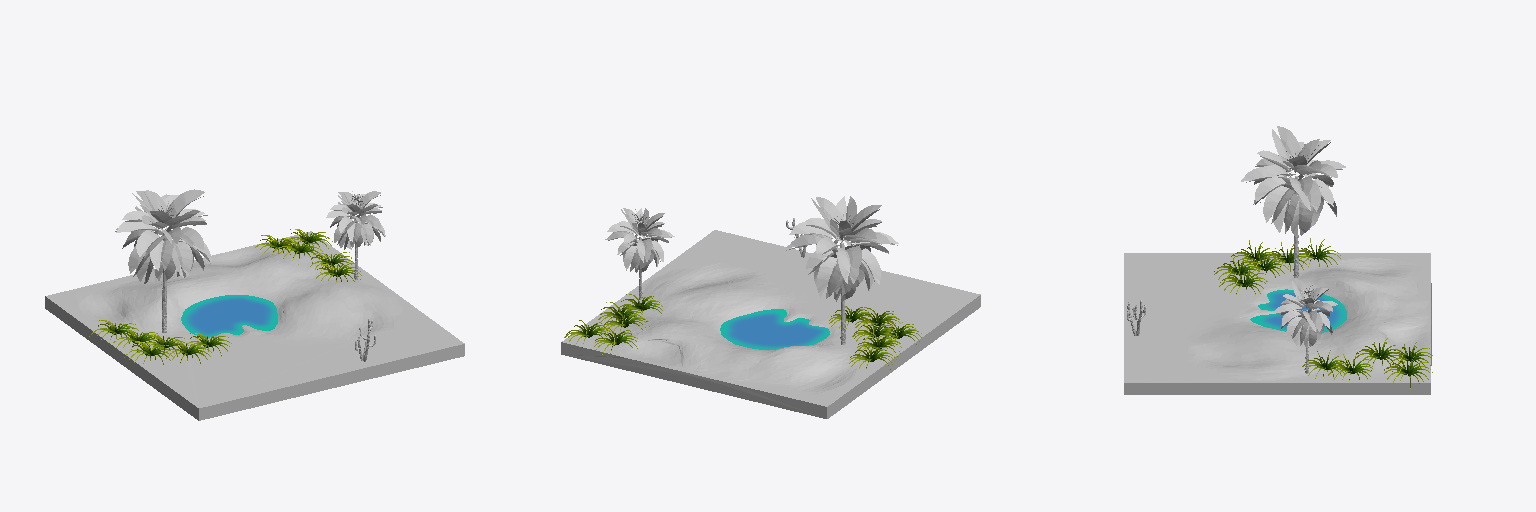
3 renders of one model, left to right at view 1: azimuth 30°, elevation 25°; view 2: azimuth 150°, elevation 25°; view 3: azimuth 270°, elevation 25°, orthographic.
Parts seen in each view (by area): view 1: New_lambert1_0, Tree_1_Tree_1Mat1_0, polySurface939_lambert5_0, pPlane1_Water_0, Tree_1_Tree_1Mat1_0.001; view 2: New_lambert1_0, Tree_1_Tree_1Mat1_0, polySurface939_lambert5_0, pPlane1_Water_0, Tree_1_Tree_1Mat1_0.001; view 3: New_lambert1_0, Tree_1_Tree_1Mat1_0, polySurface939_lambert5_0, Tree_1_Tree_1Mat1_0.001, pPlane1_Water_0.
Part boxes in pixels (bbox=[...]): New_lambert1_0: bbox=[45, 231, 464, 420]; Tree_1_Tree_1Mat1_0: bbox=[115, 189, 211, 283]; polySurface939_lambert5_0: bbox=[89, 229, 361, 364]; pPlane1_Water_0: bbox=[181, 295, 277, 337]; Tree_1_Tree_1Mat1_0.001: bbox=[326, 191, 385, 249]; New_lambert1_0: bbox=[561, 230, 980, 418]; Tree_1_Tree_1Mat1_0: bbox=[786, 196, 898, 301]; polySurface939_lambert5_0: bbox=[564, 294, 921, 369]; pPlane1_Water_0: bbox=[720, 309, 829, 349]; Tree_1_Tree_1Mat1_0.001: bbox=[605, 208, 674, 272]; New_lambert1_0: bbox=[1124, 253, 1431, 394]; Tree_1_Tree_1Mat1_0: bbox=[1241, 126, 1345, 236]; polySurface939_lambert5_0: bbox=[1214, 238, 1432, 388]; Tree_1_Tree_1Mat1_0.001: bbox=[1273, 279, 1337, 347]; pPlane1_Water_0: bbox=[1250, 289, 1346, 332].
Size of the model in its own units: 0.2721 by 0.1349 by 0.2535.
7 materials, 2 textured.